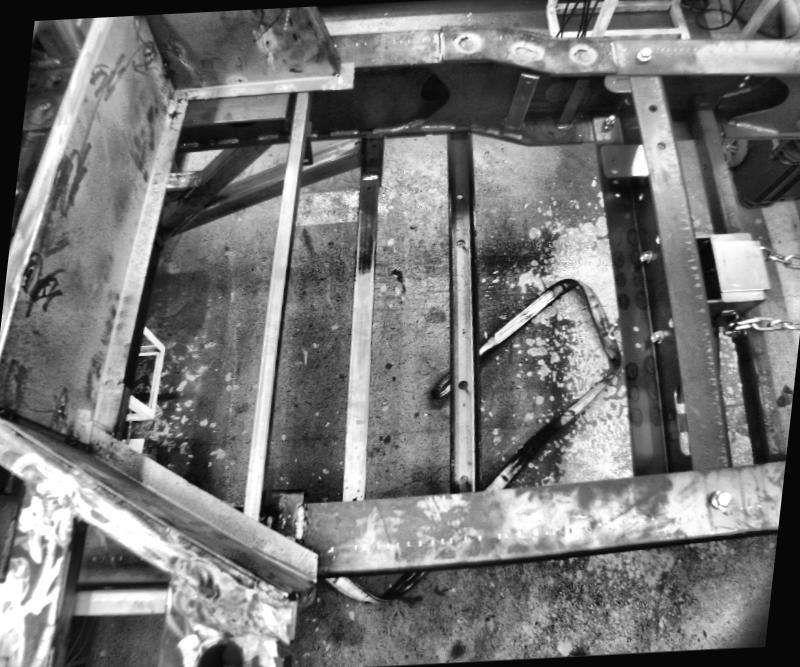bolt: (706, 486, 732, 512), (647, 328, 670, 342), (634, 46, 651, 62), (636, 248, 652, 263), (600, 114, 614, 130)
bracket: (590, 139, 650, 179), (500, 71, 540, 127), (552, 75, 592, 129), (296, 132, 314, 166)
hole: (191, 639, 254, 666), (456, 379, 469, 390), (654, 140, 665, 150), (457, 473, 468, 483), (646, 102, 656, 112), (612, 189, 622, 198), (453, 190, 464, 198), (454, 238, 464, 246), (635, 190, 643, 199), (632, 324, 640, 332), (634, 340, 642, 346), (610, 178, 618, 184), (610, 156, 616, 163), (302, 158, 310, 162), (365, 185, 369, 188)
